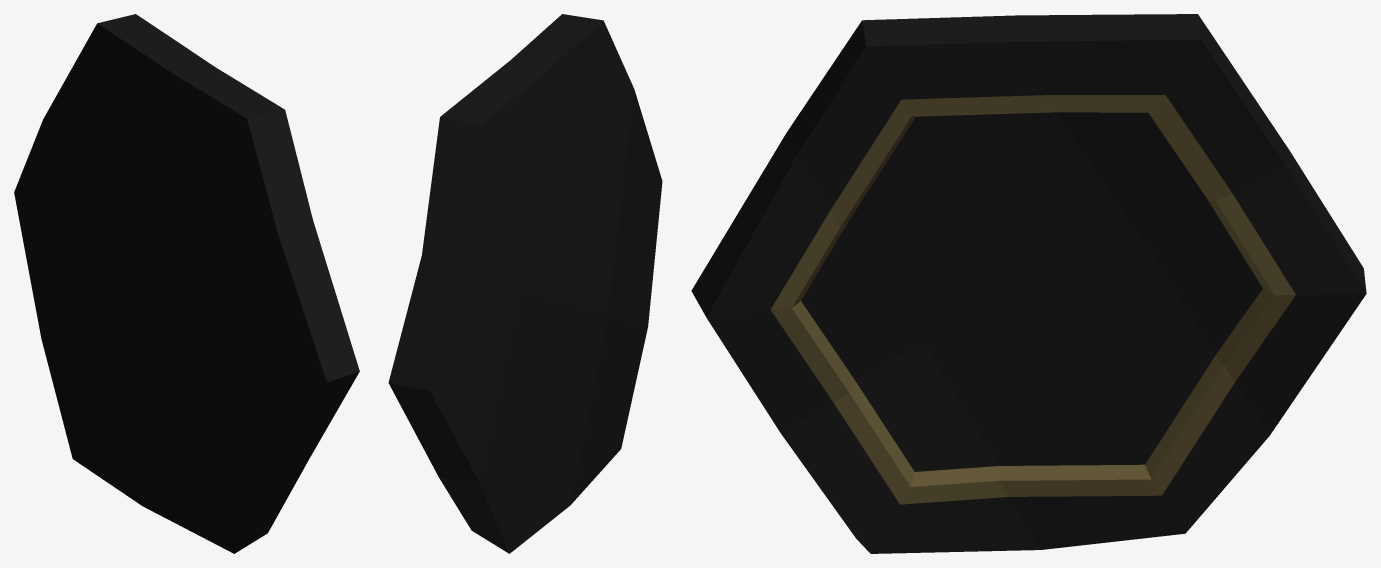
Rendered from hint.fbx.
The picture shows the model from 3 angles, left to right: view 1: azimuth 30°, elevation 25°; view 2: azimuth 150°, elevation 25°; view 3: azimuth 270°, elevation 25°; orthographic projection. The views are drawn at different scales.
Parts seen in each view (by area): view 1: Cylinder; view 2: Cylinder; view 3: Cylinder.
Part boxes in pixels (left/top/right/bottom): Cylinder: left=14, top=14, right=359, bottom=553; Cylinder: left=388, top=14, right=662, bottom=553; Cylinder: left=691, top=14, right=1366, bottom=553.
Bounding box in the file's own units: 37.69 × 174 × 201.
